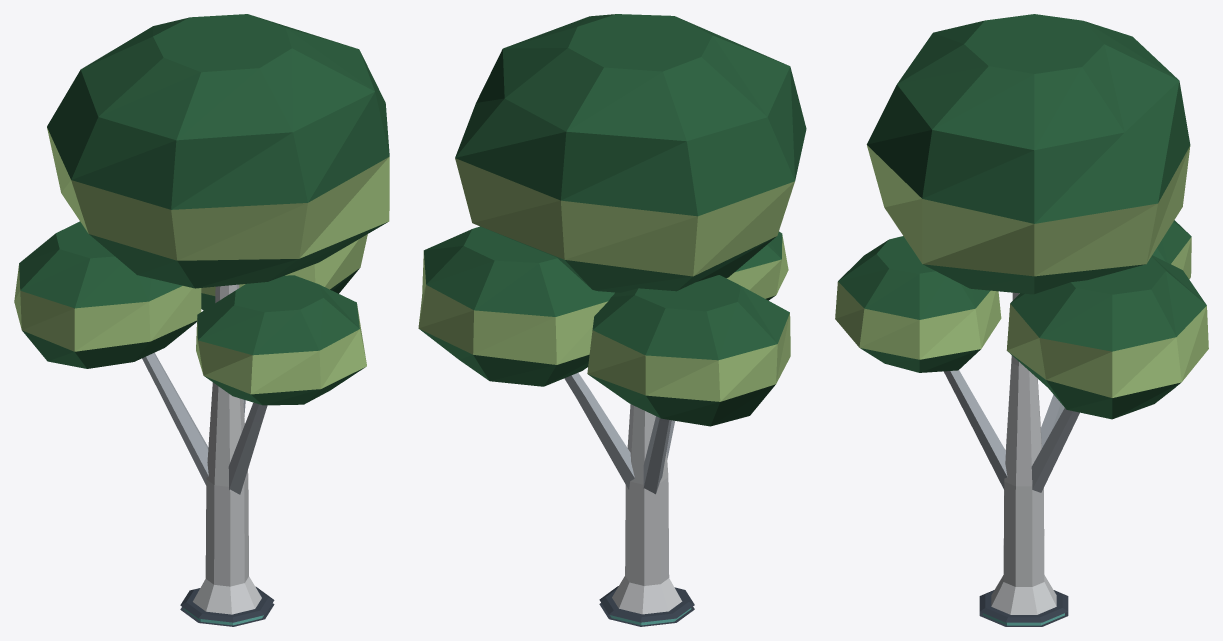
Rendered from sculptural-canopy-tree-681c3d.glb.
3 views of the same model, side by side, from view 1: azimuth 30°, elevation 25°; view 2: azimuth 150°, elevation 25°; view 3: azimuth 270°, elevation 25° (orthographic).
Visible parts, largest first — view 1: canopy-mesh, trunk; view 2: canopy-mesh, trunk; view 3: canopy-mesh, trunk.
Boxes of the visible parts, x1,y1,x2,y2 form: canopy-mesh: (14,14,389,405); trunk: (142,284,274,626); canopy-mesh: (418,14,806,426); trunk: (564,373,694,626); canopy-mesh: (835,14,1208,419); trunk: (943,292,1079,626).
Bounding box in the file's own units: 3.86 × 6 × 3.58.
